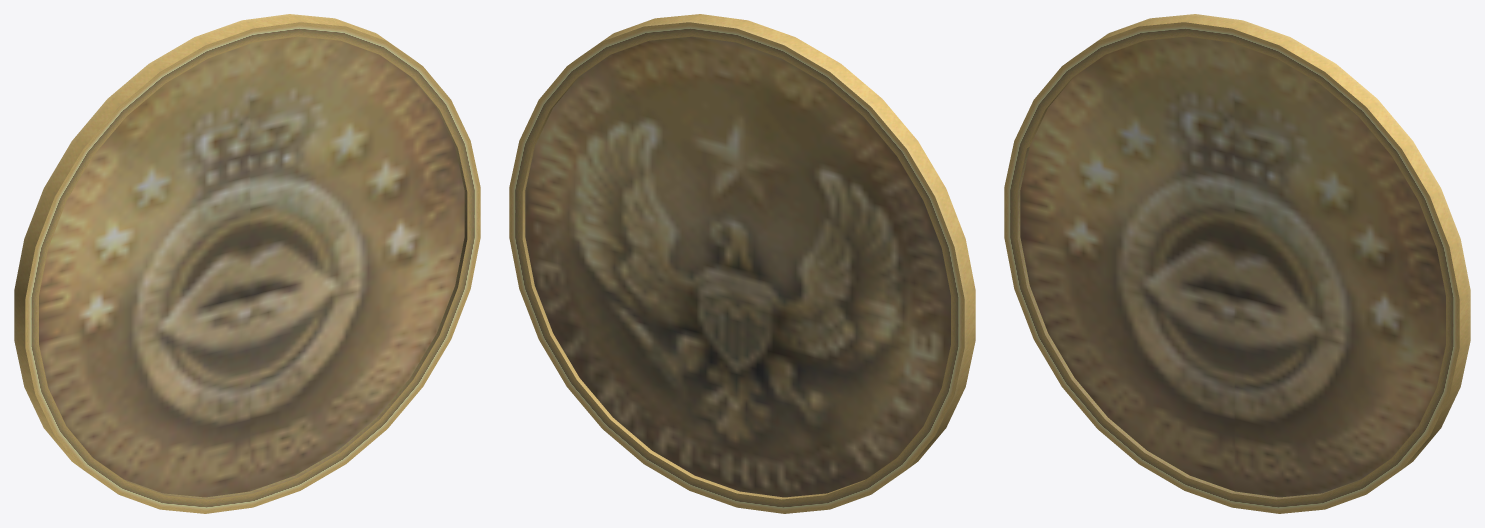
The model's file is icon.ico.obj.
3 views of the same model, side by side, from view 1: azimuth 30°, elevation 25°; view 2: azimuth 150°, elevation 25°; view 3: azimuth 330°, elevation 25° (orthographic).
Size of the model in its own units: 4.22 by 4.25 by 0.1797.
1 material, 1 textured.
